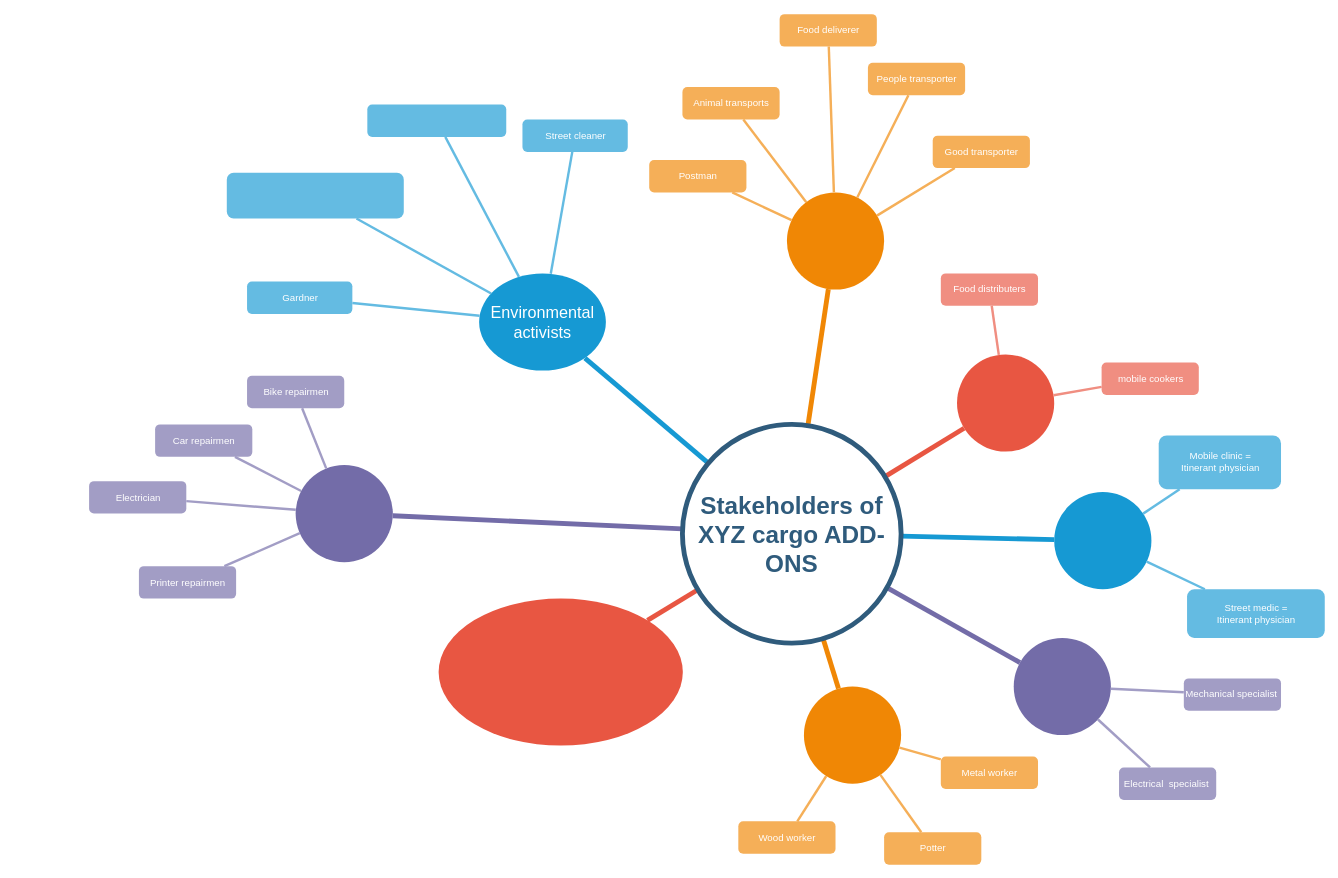
Some shapes in this 1338 by 878 pixel diagram are drawn without their labels. Each missing label, with the centre of its shape:
"Craftmen" goes at point (852, 734).
"Food producers" goes at point (1005, 402).
"Garbage pick-up= sweeper" goes at point (436, 120).
"Health care" goes at point (1102, 540).
"Makers" goes at point (1062, 686).
"Potential user who need XYZ cargo ADD-ONS with specific usage… to be continued" goes at point (560, 671).
"repairmen" goes at point (343, 513).
"Transporters" goes at point (835, 240).
"Urban Farming= urban communities such as individuals" goes at point (314, 195).
